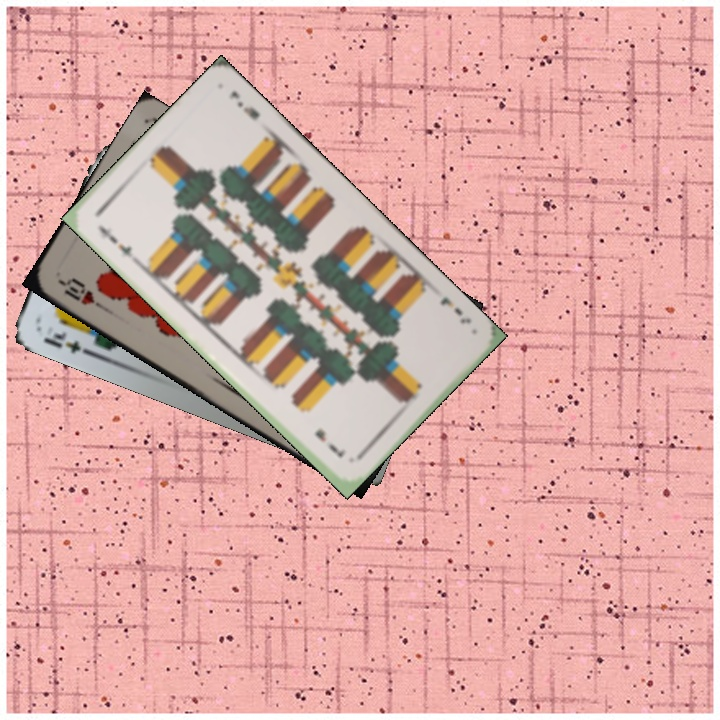E7: (93, 221, 137, 264), (436, 293, 474, 327)
EK: (39, 327, 92, 358)
H10: (54, 273, 108, 313)
